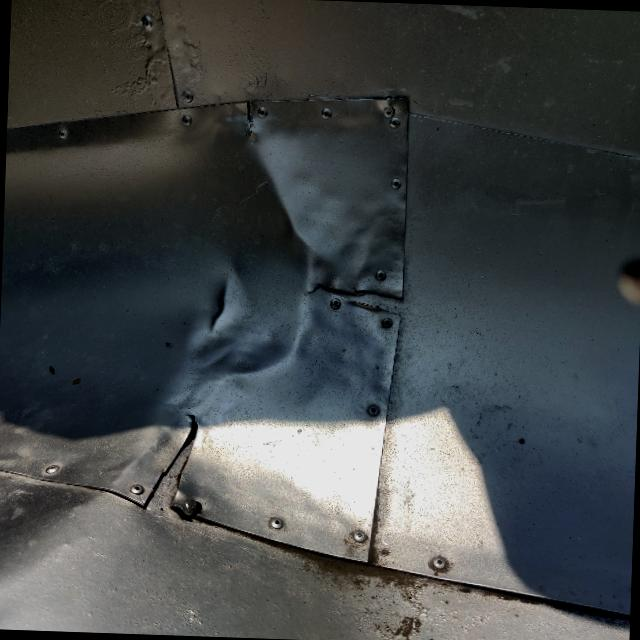dent: (119, 106, 334, 416)
